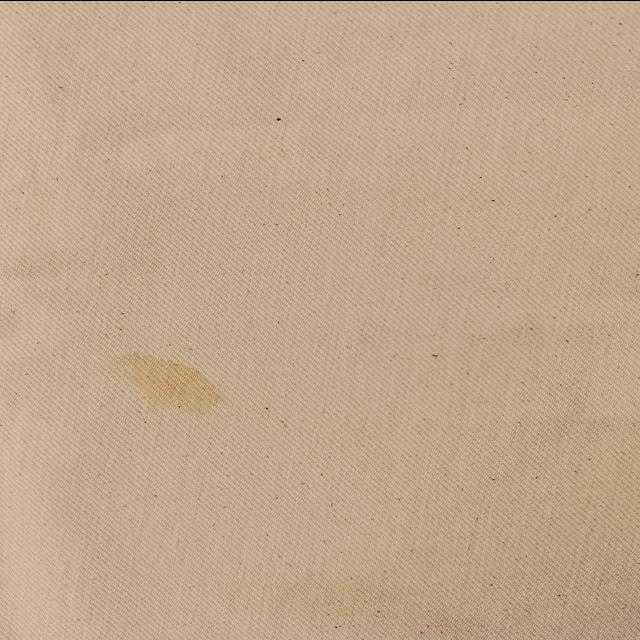taaaches: (91, 350, 253, 420)
